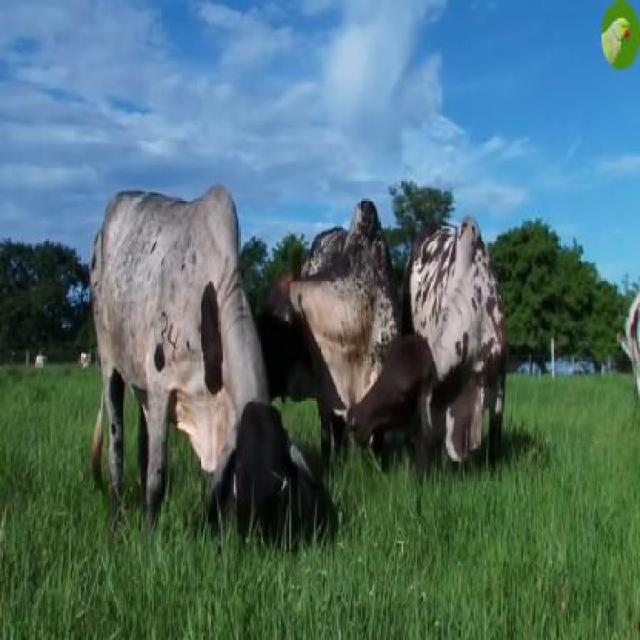Cow: (89, 188, 309, 546), (405, 215, 509, 492)
